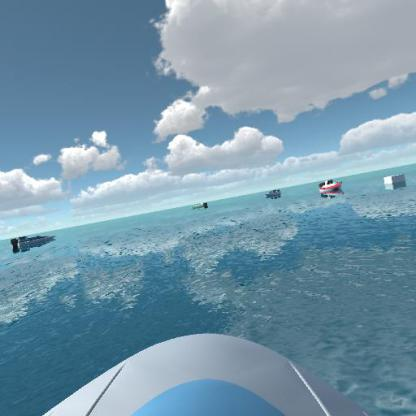usv0: (190, 199, 209, 211)
usv1: (9, 229, 58, 251), (263, 187, 285, 200)
usv3: (315, 176, 347, 201)
